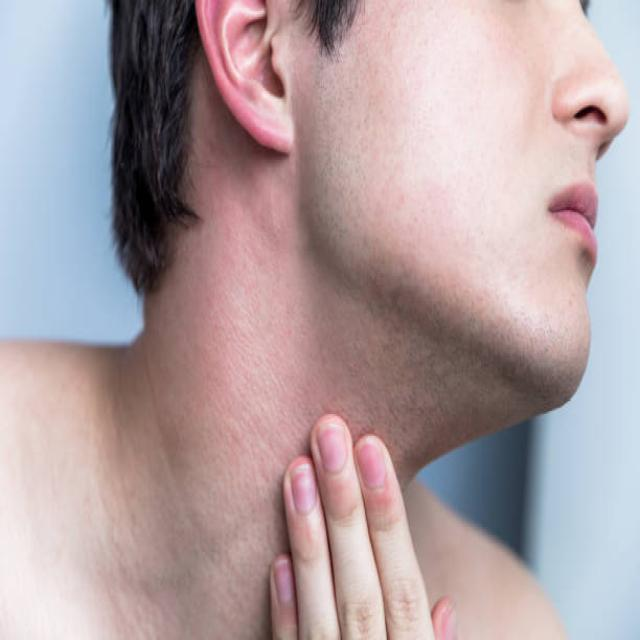Dry-Skin: (383, 0, 502, 256)
